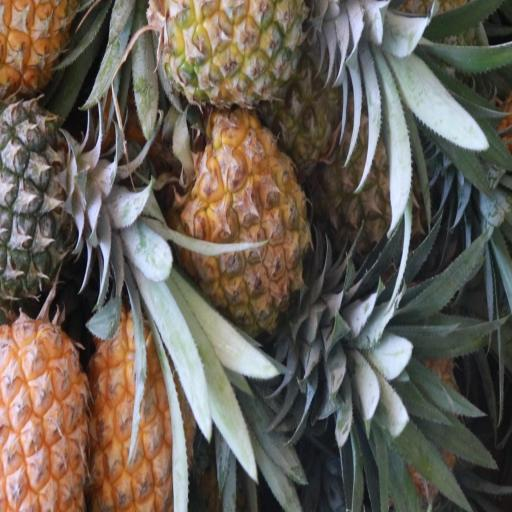------------------------------: (318, 110, 420, 276)
Pineapple - v8 v1: (183, 115, 308, 329), (88, 325, 196, 512), (156, 0, 305, 115), (0, 329, 90, 510)
